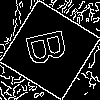B: (25, 25, 77, 68)
